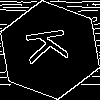K: (25, 25, 78, 65)
